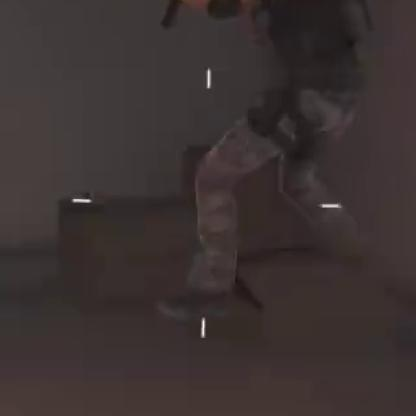enemy: (155, 2, 412, 332)
